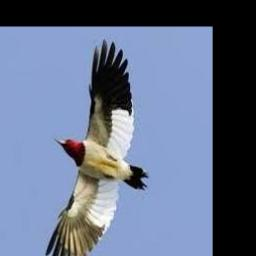Woodpecker: (46, 39, 149, 256)
